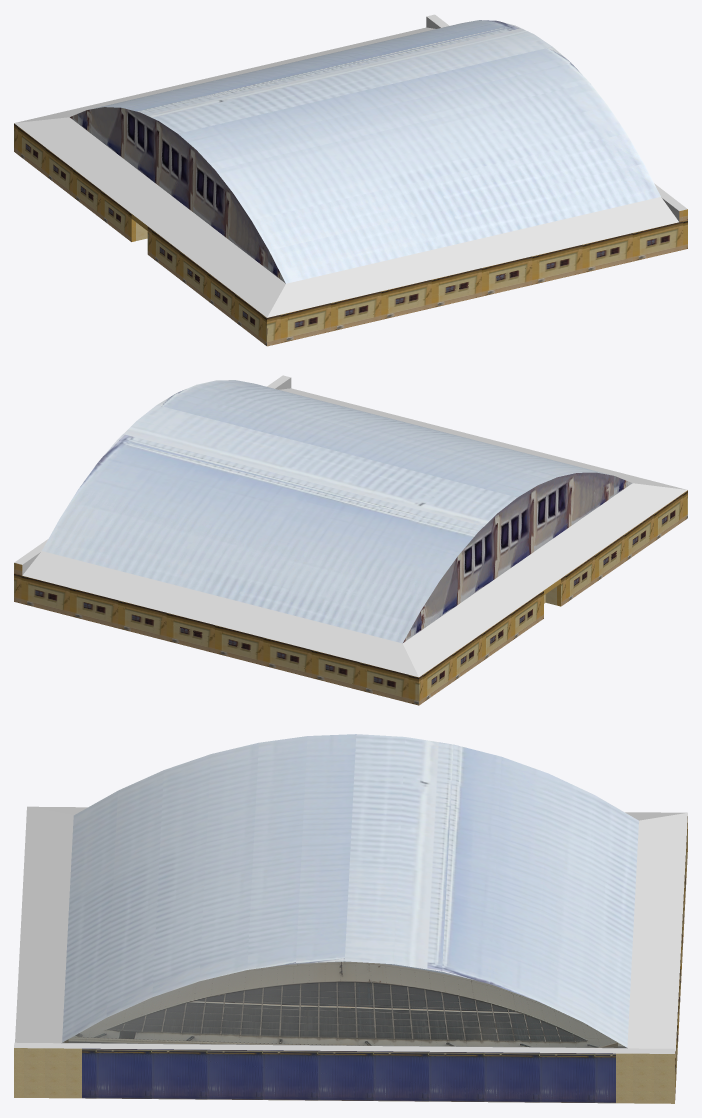
File: Lecu_hangar_policia.gltf
The picture shows the model from 3 angles, top to bottom: view 1: azimuth 30°, elevation 25°; view 2: azimuth 150°, elevation 25°; view 3: azimuth 270°, elevation 25°; orthographic projection. The views are drawn at different scales.
Parts seen in each view (by area): view 1: Hangar_policia; view 2: Hangar_policia; view 3: Hangar_policia.
Boxes of the visible parts, bbox=[...] form: Hangar_policia: bbox=[14, 14, 687, 346]; Hangar_policia: bbox=[14, 375, 687, 705]; Hangar_policia: bbox=[14, 734, 687, 1103].
Size of the model in its own units: 51.39 by 12.31 by 56.05.
